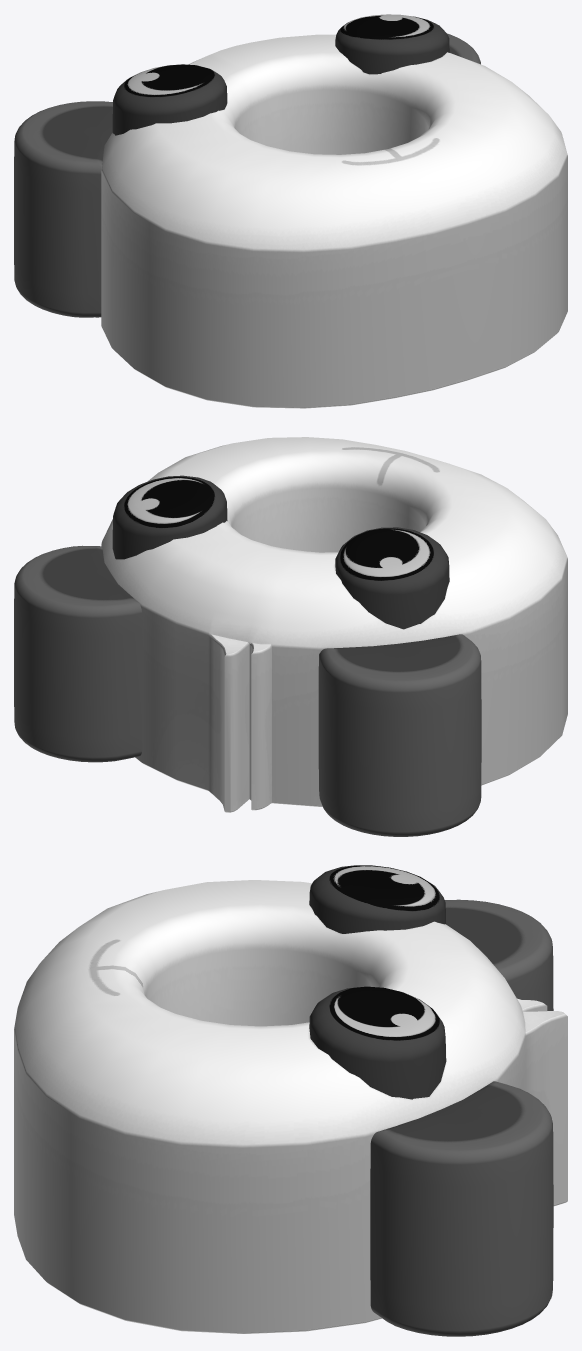
Rendered from Pin_panda_0.fbx.
3 views of the same model, one above another, from view 1: azimuth 30°, elevation 25°; view 2: azimuth 150°, elevation 25°; view 3: azimuth 270°, elevation 25° (orthographic). The views are drawn at different scales.
Visible parts, largest first — view 1: panda, ear, eyes1; view 2: panda, ear, eyes1; view 3: panda, ear, eyes1.
Boxes of the visible parts, bbox=[...] form: panda: bbox=[101, 34, 567, 408]; ear: bbox=[14, 33, 480, 317]; eyes1: bbox=[112, 14, 449, 135]; panda: bbox=[101, 437, 567, 812]; ear: bbox=[14, 545, 481, 836]; eyes1: bbox=[112, 475, 449, 629]; panda: bbox=[14, 880, 567, 1333]; ear: bbox=[370, 899, 553, 1336]; eyes1: bbox=[309, 865, 446, 1099].
Size of the model in its own units: 0.4946 by 0.2445 by 0.4462.
Materials: 3 (3 with a texture image).
